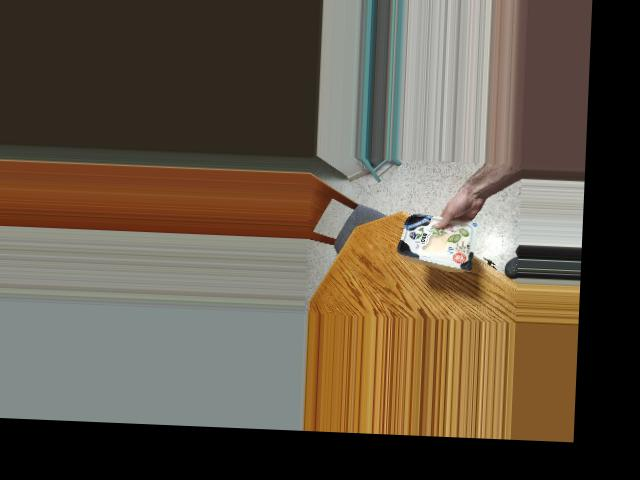cheese: (397, 210, 476, 272)
